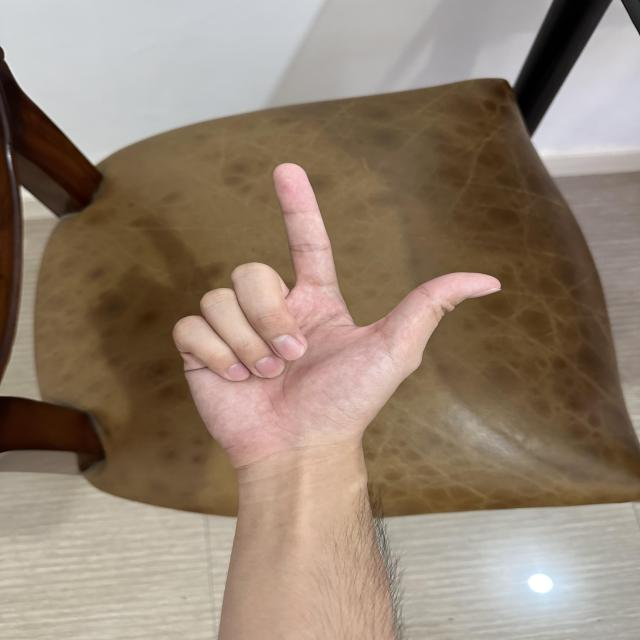L: (169, 160, 505, 463)
